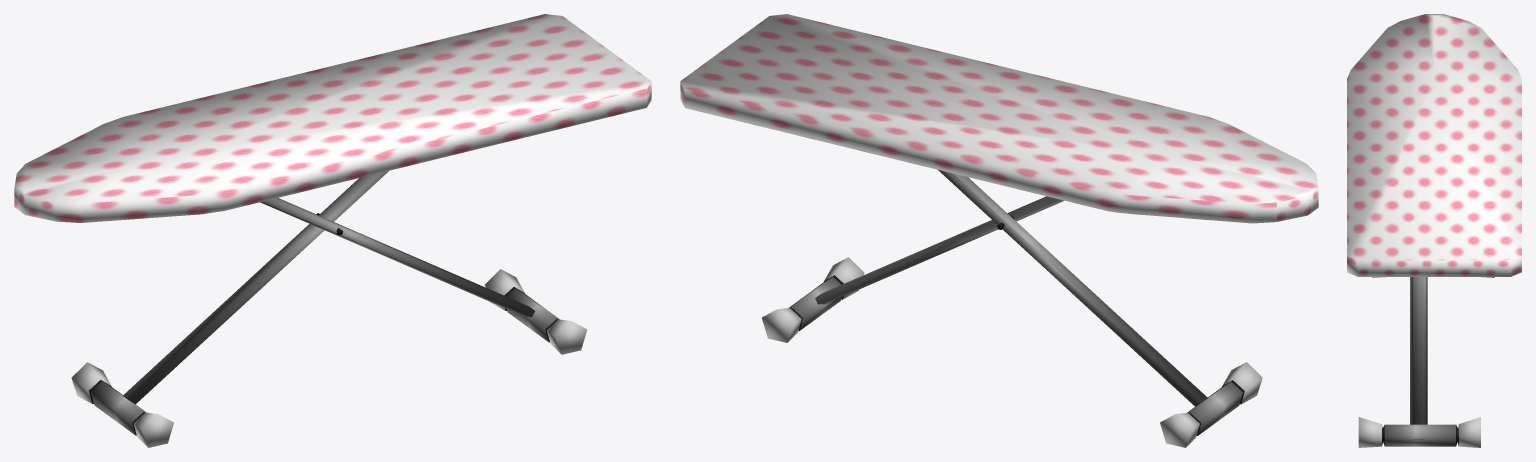
The model's file is Ironing_Board_B.FBX.
The picture shows the model from 3 angles, left to right: view 1: azimuth 30°, elevation 25°; view 2: azimuth 150°, elevation 25°; view 3: azimuth 270°, elevation 25°; orthographic projection. The views are drawn at different scales.
Parts seen in each view (by area): view 1: Ironing_Board; view 2: Ironing_Board; view 3: Ironing_Board.
Part boxes in pixels (left/top/right/bottom): Ironing_Board: left=14, top=14, right=651, bottom=447; Ironing_Board: left=680, top=14, right=1318, bottom=447; Ironing_Board: left=1347, top=14, right=1521, bottom=447.
Size of the model in its own units: 317 by 130 by 95.
